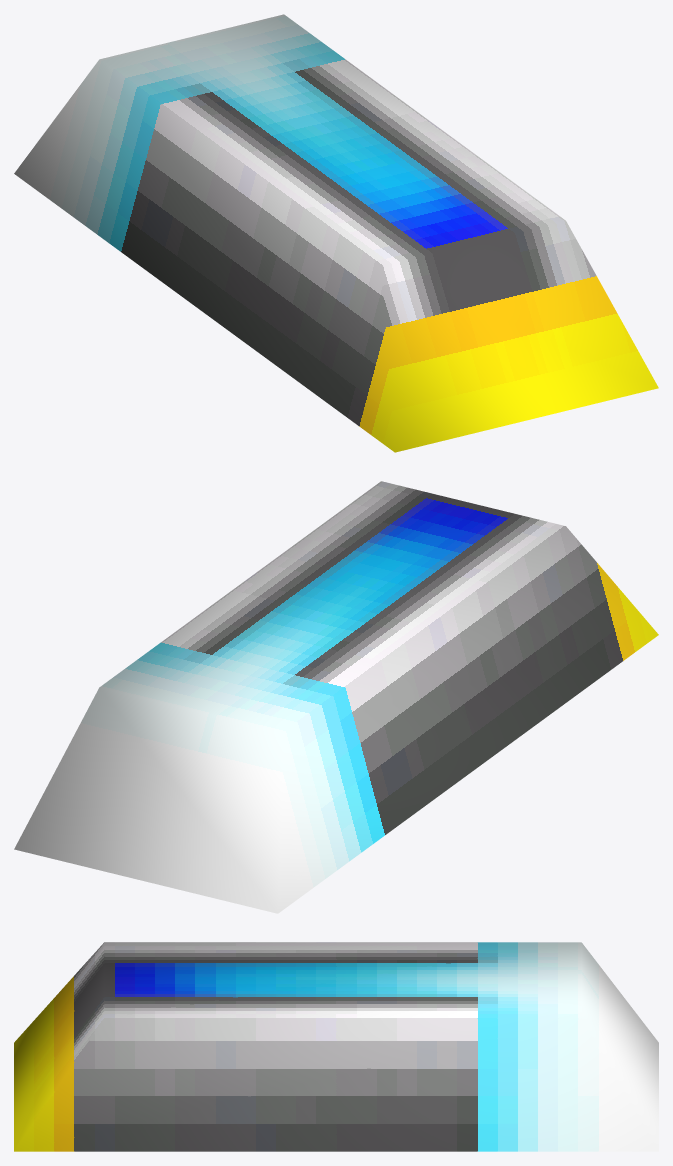
3 views of the same model, one above another, from view 1: azimuth 30°, elevation 25°; view 2: azimuth 150°, elevation 25°; view 3: azimuth 270°, elevation 25° (orthographic). The views are drawn at different scales.
Parts seen in each view (by area): view 1: 22c57ba0; view 2: 22c57ba0; view 3: 22c57ba0.
Boxes of the visible parts, <box> form: 22c57ba0: <box>14,14,658,452</box>; 22c57ba0: <box>14,481,658,913</box>; 22c57ba0: <box>14,942,658,1151</box>.
Size of the model in its own units: 4 by 2 by 10.
1 material, 1 textured.
